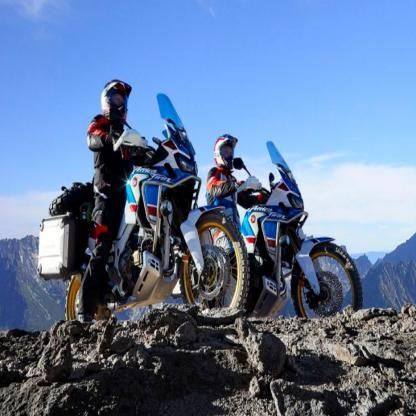helmet: (101, 79, 132, 123), (213, 133, 239, 171)
